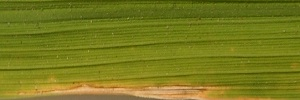RiceBacterialBlight: (2, 79, 271, 100)
